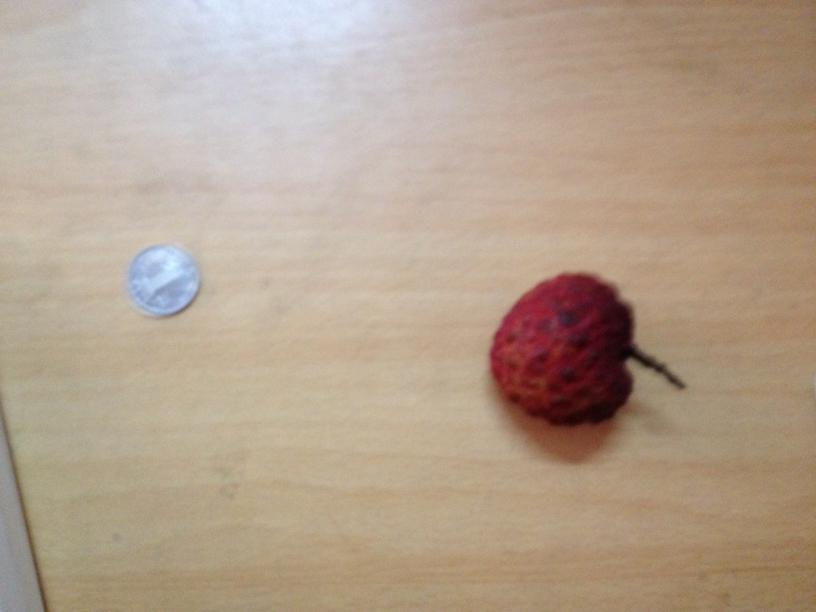coin: (126, 243, 199, 315)
litchi: (492, 274, 633, 424)
